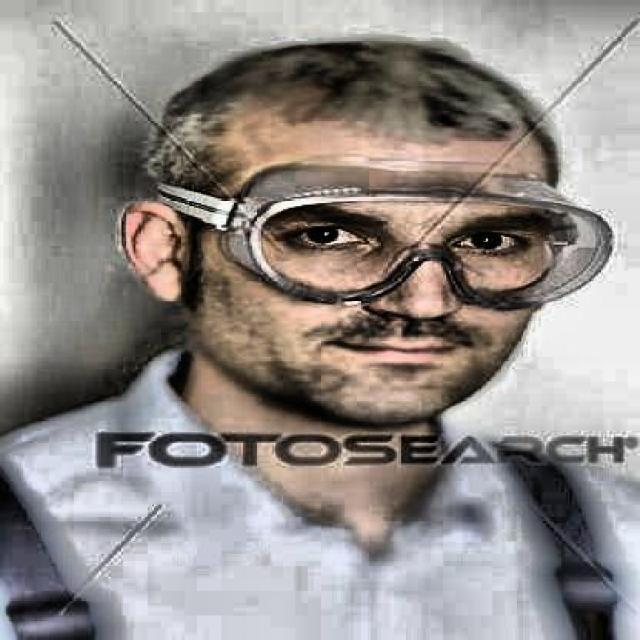Goggles: (153, 163, 618, 319)
